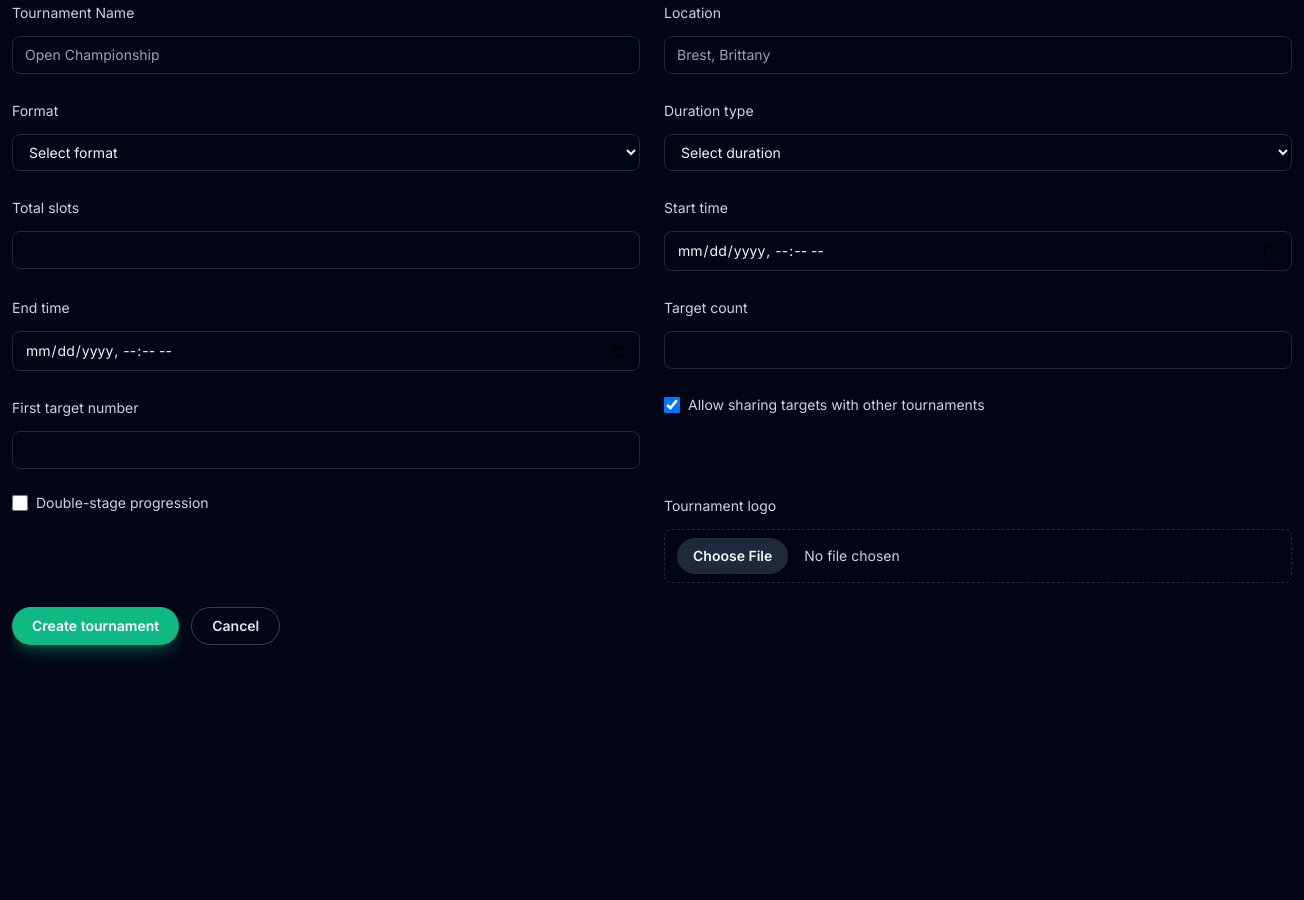
Test case: TournamentForm validation fields › should show validation errors for empty required fields
Click the button "Create tournament": (96, 626) [12, 607, 179, 645]
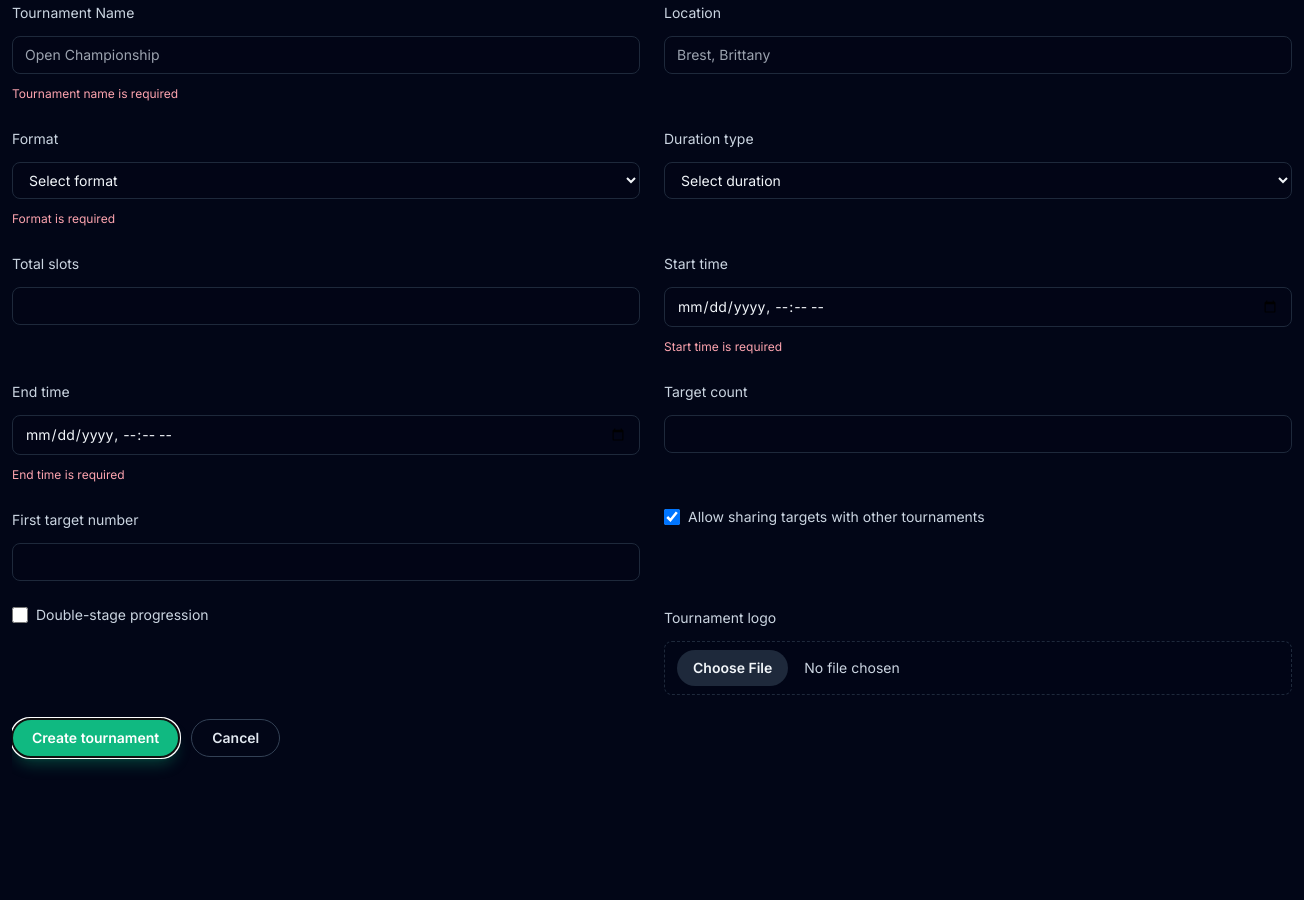
Expected: the text "Tournament name is required" is shown, [12, 86, 178, 101]
Expected: the text "Format is required" is shown, [12, 211, 115, 226]
Expected: the text "Start time is required" is shown, [664, 339, 782, 354]
